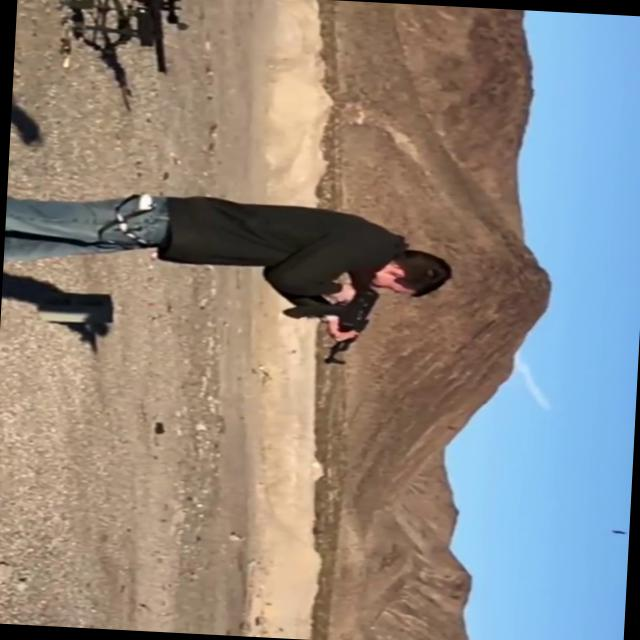long weapon: (83, 0, 212, 109), (268, 262, 382, 380)
